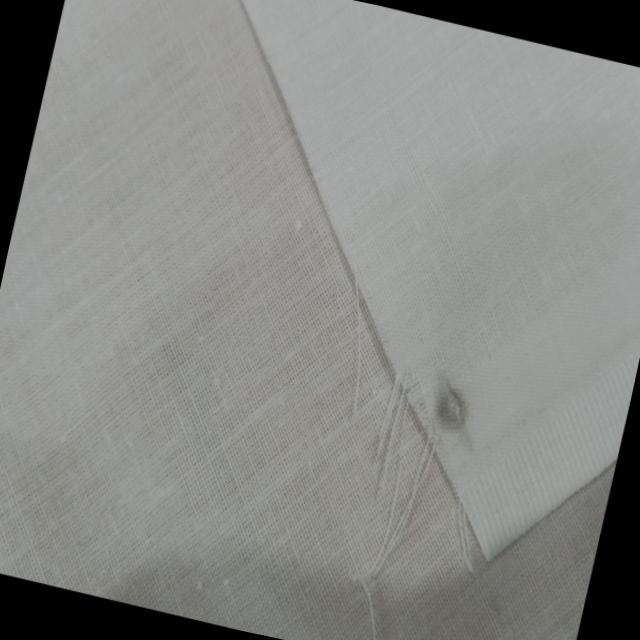stain: (416, 362, 492, 460)
